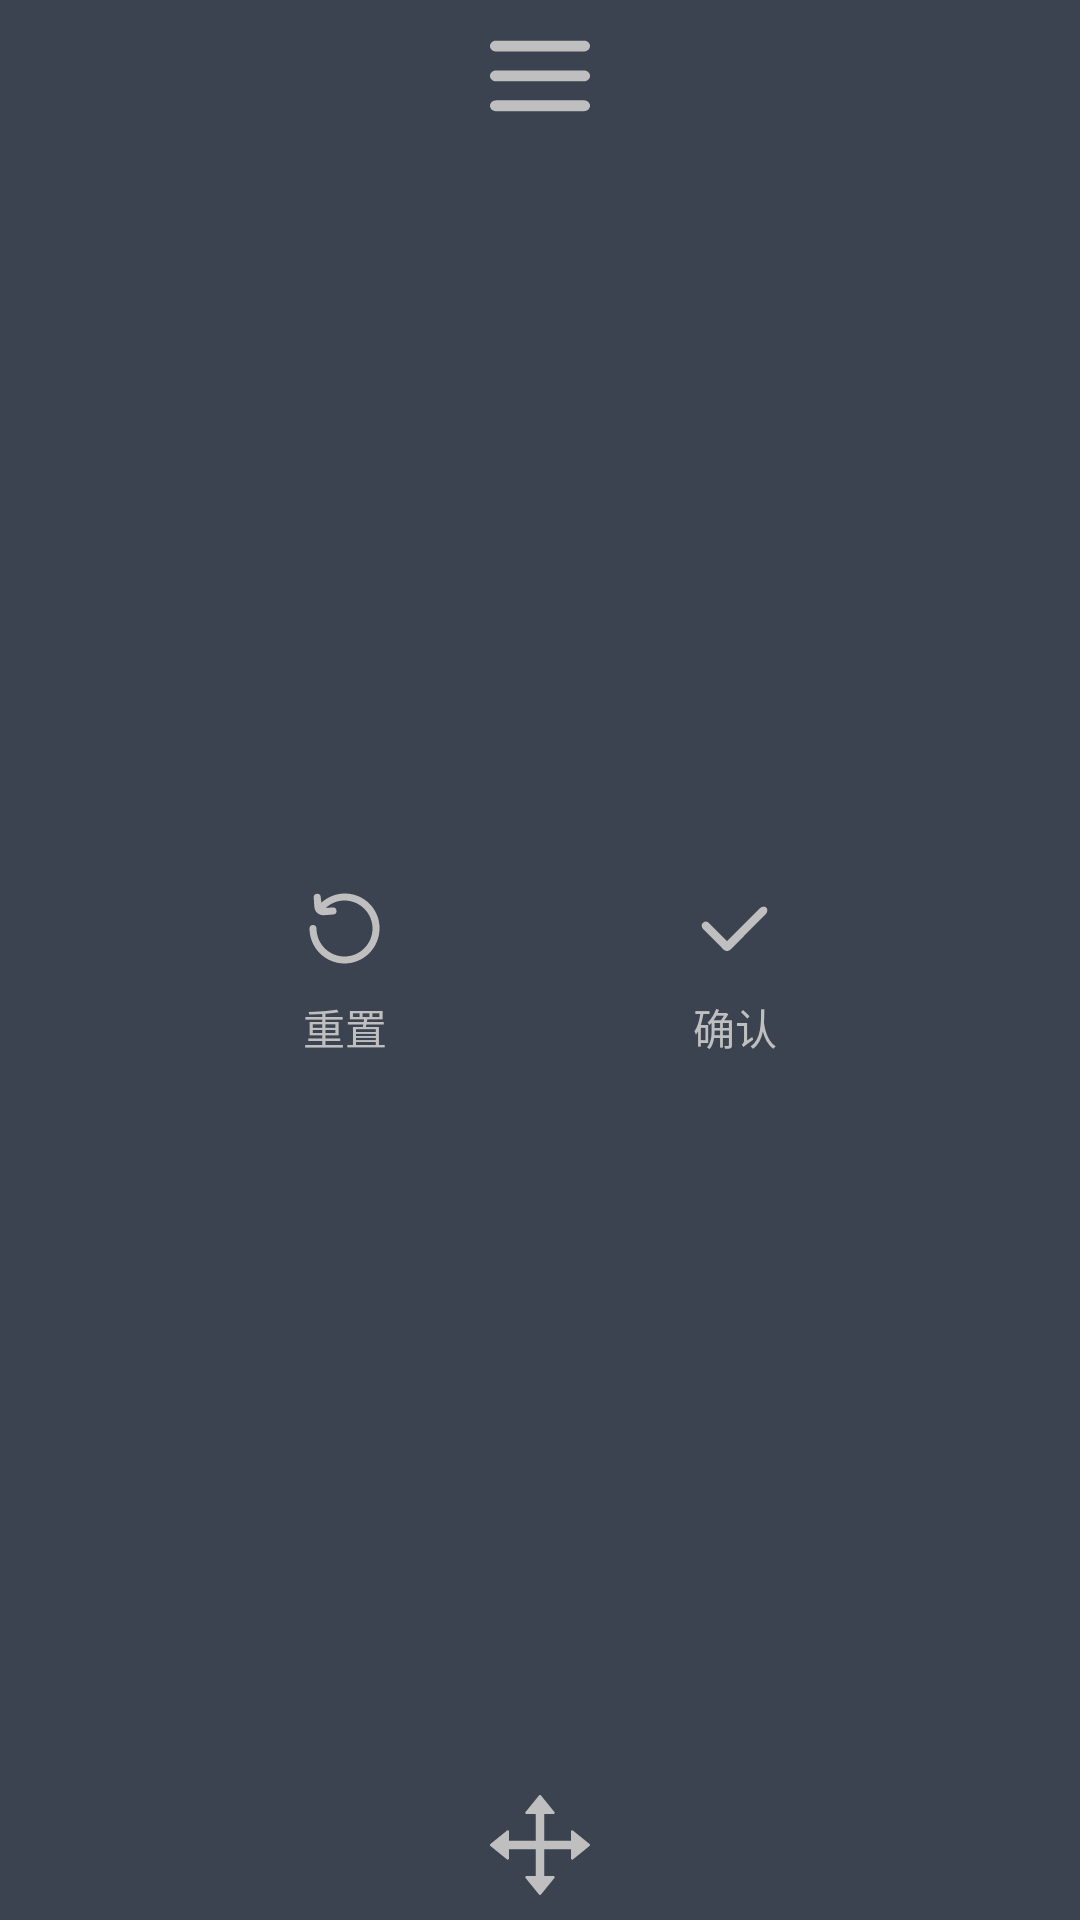

Icon bounding boxes for this 1080x1920 phone screenshot, format region(x1, y1, x2, y2):
done: region(701, 906, 768, 951)
menu: region(490, 40, 590, 112)
move: region(490, 1795, 590, 1895)
reset: region(309, 893, 380, 964)
